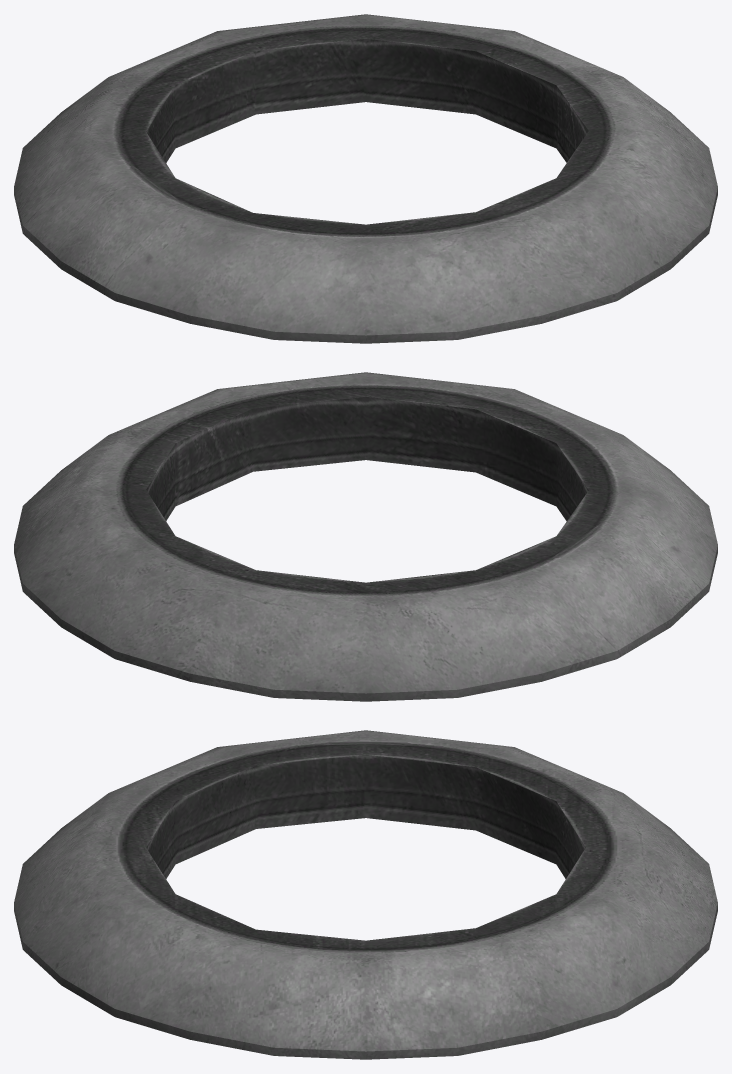
Rendered from hatch_frame_lab.dae.
3 renders of one model, top to bottom at view 1: azimuth 30°, elevation 25°; view 2: azimuth 150°, elevation 25°; view 3: azimuth 270°, elevation 25°, orthographic.
Visible parts, largest first — view 1: pPipe5; view 2: pPipe5; view 3: pPipe5.
Part boxes in pixels (bbox=[...]): pPipe5: bbox=[14, 14, 717, 343]; pPipe5: bbox=[14, 372, 717, 701]; pPipe5: bbox=[14, 730, 717, 1059].
Size of the model in its own units: 2.52 by 0.25 by 2.52.
